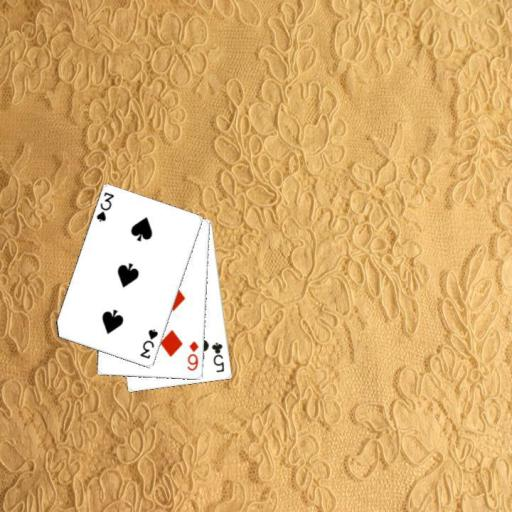3S: (93, 189, 115, 224), (138, 327, 160, 361)
5C: (209, 339, 226, 374)
6D: (184, 339, 200, 373)
